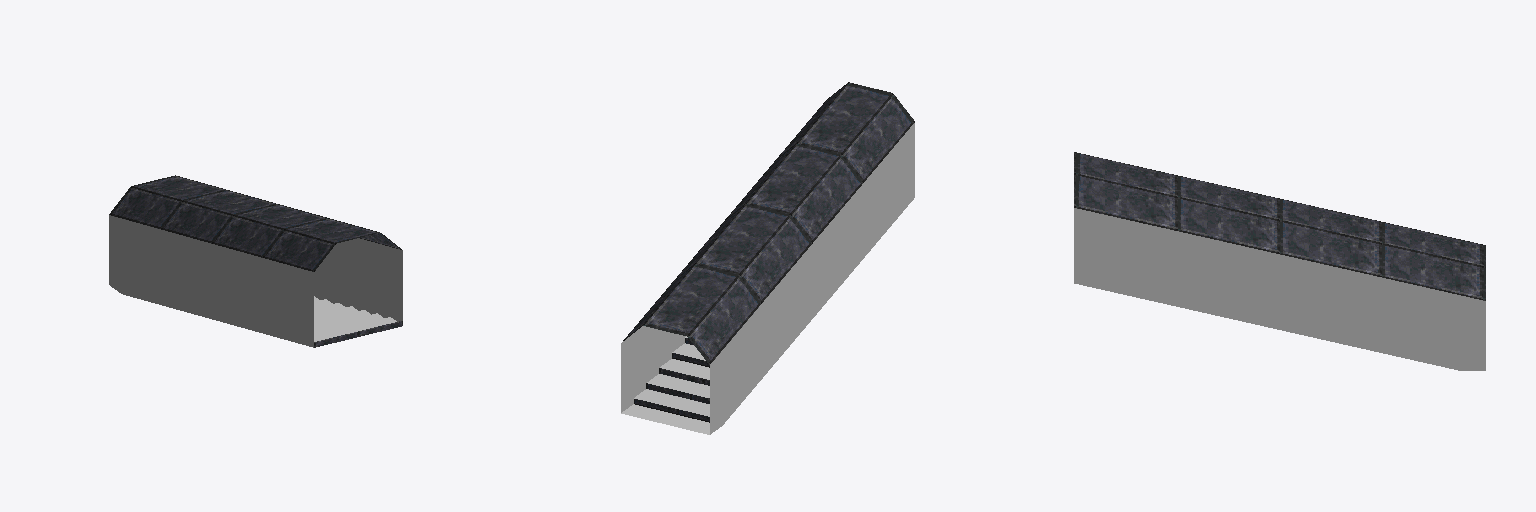
3 views of the same model, side by side, from view 1: azimuth 30°, elevation 25°; view 2: azimuth 150°, elevation 25°; view 3: azimuth 270°, elevation 25° (orthographic).
Parts seen in each view (by area): view 1: model61017-node_model61017; view 2: model61017-node_model61017; view 3: model61017-node_model61017.
Part boxes in pixels (x1,y1,x2,y2): model61017-node_model61017: (109, 175, 402, 347); model61017-node_model61017: (621, 82, 914, 434); model61017-node_model61017: (1074, 152, 1485, 370).
Bounding box in the file's own units: 3.2 × 6.4 × 12.8.
3 materials, 1 textured.